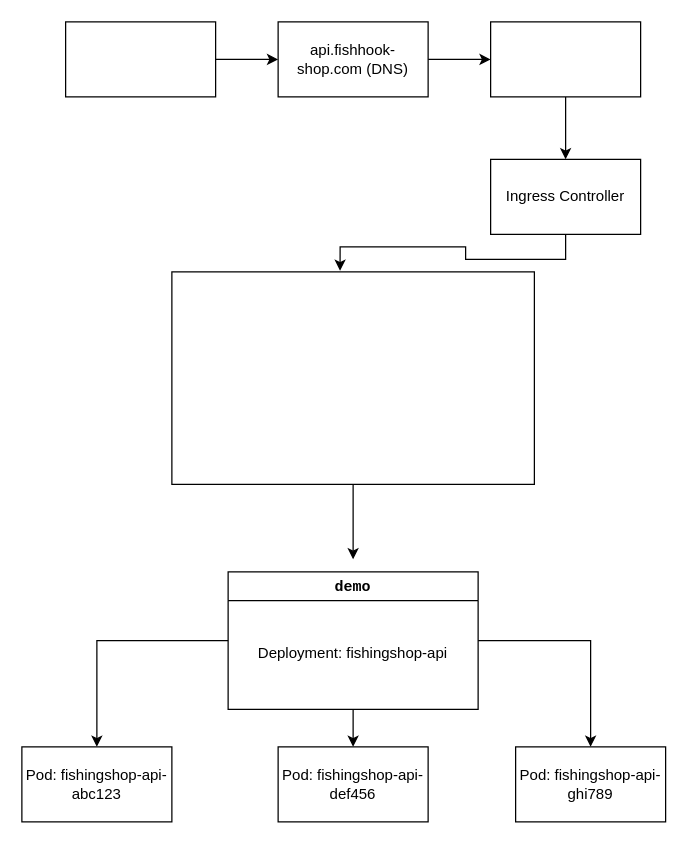
Image size: 688x844. Some labels were removed from this diagram. The shapes that lost their labels are listed below. From the top down, each one's centre as x and y in pixels, then its label:
(x=140, y=59): User
(x=565, y=59): Cloud Load Balancer
(x=352, y=377): Kubernetes cluster
